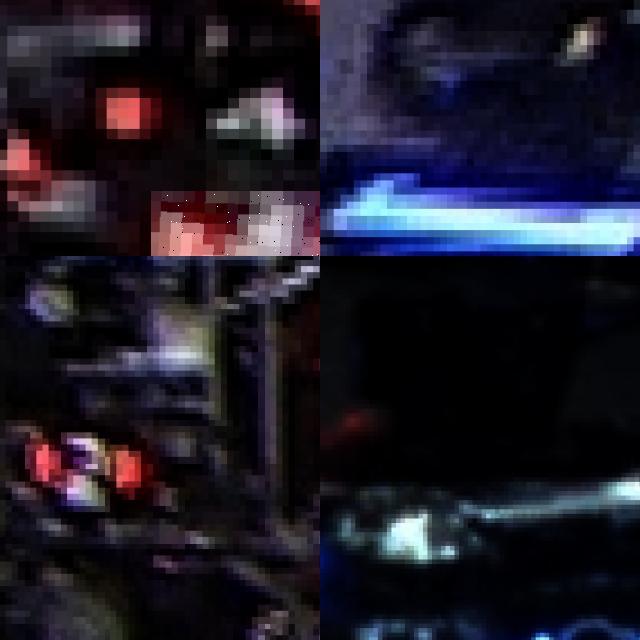Bs: (522, 610, 640, 640)
R2: (18, 420, 141, 500)
R4: (150, 191, 320, 256)
